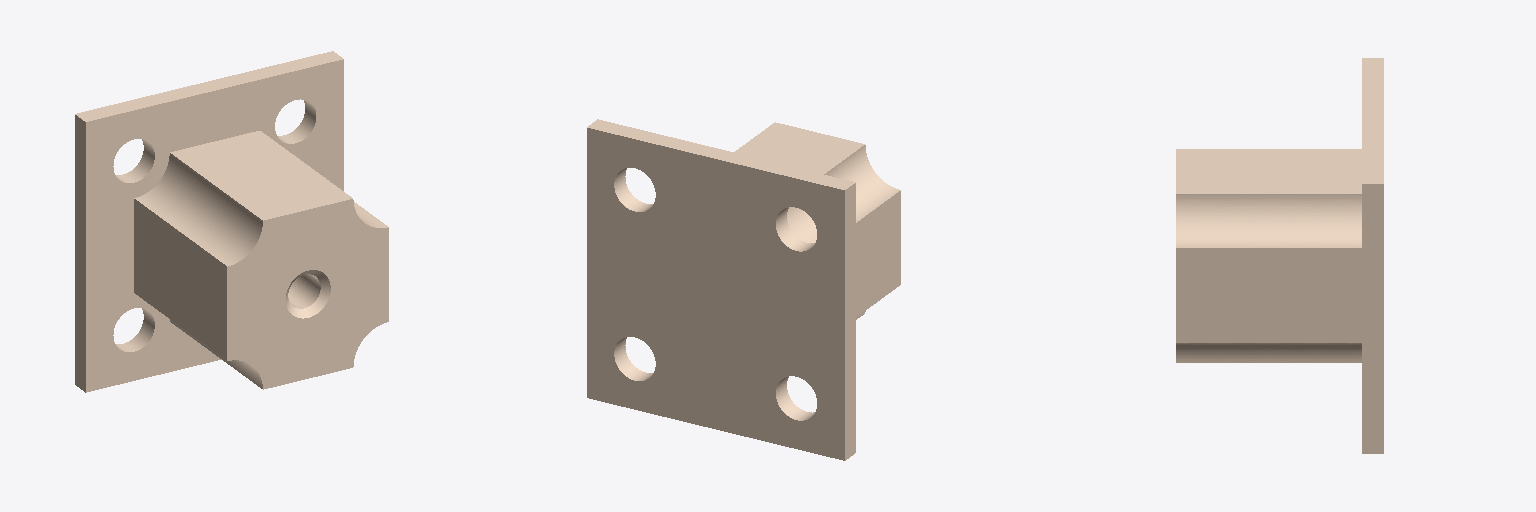
Rendered from industreal_tray_insert_round_peg_4mm.obj.
3 views of the same model, side by side, from view 1: azimuth 30°, elevation 25°; view 2: azimuth 150°, elevation 25°; view 3: azimuth 270°, elevation 25° (orthographic).
Parts seen in each view (by area): view 1: industreal_tray_insert_round_peg_4mm; view 2: industreal_tray_insert_round_peg_4mm; view 3: industreal_tray_insert_round_peg_4mm.
Part boxes in pixels (x1,y1,x2,y2): industreal_tray_insert_round_peg_4mm: (75,51,388,392); industreal_tray_insert_round_peg_4mm: (587,119,900,460); industreal_tray_insert_round_peg_4mm: (1176,58,1383,453).
Bounding box in the file's own units: 0.04 × 0.04 × 0.028.